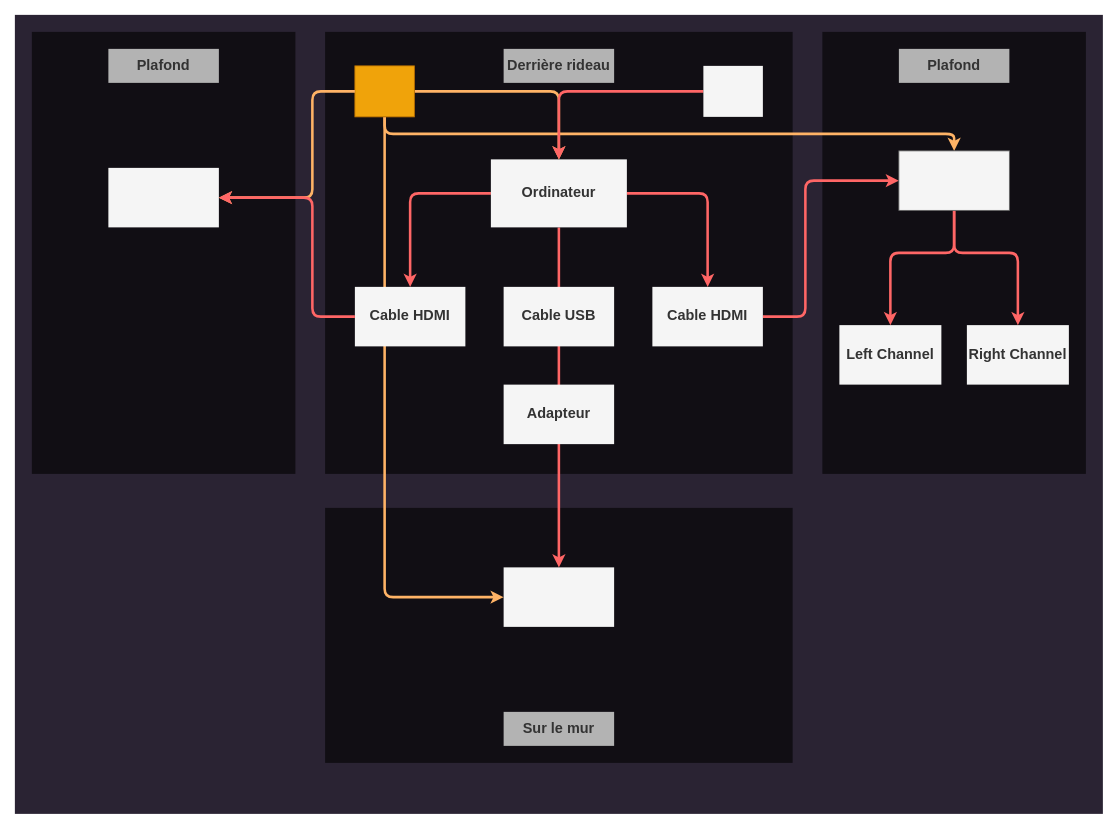
This 1117x828 diagram has some shape labels left out. Here are the shapes that lost their labels. From the top down, the centre of each, then its label:
At point 384,91: "POWER".
At point 732,90: "LAN".
At point 163,197: "Projecteur Vidéo".
At point 953,180: "2x Speakers".
At point 558,596: "Lidar".
